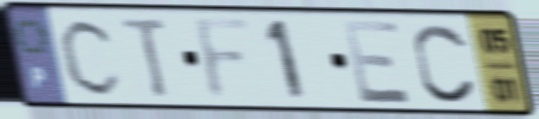1: (264, 16, 309, 104)
C: (410, 19, 481, 107), (56, 15, 126, 99)
E: (339, 17, 417, 107)
F: (191, 15, 257, 104)
T: (118, 15, 175, 101)
